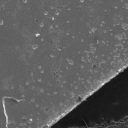corrosion: (65, 58, 75, 67), (73, 94, 83, 103), (84, 48, 94, 57), (114, 54, 123, 64), (121, 21, 128, 31), (89, 26, 97, 34), (31, 43, 38, 50), (116, 33, 123, 40), (91, 63, 97, 70), (24, 80, 30, 86), (86, 78, 92, 84), (34, 32, 40, 37), (43, 10, 48, 16), (39, 22, 44, 28), (28, 117, 33, 123), (39, 88, 45, 93), (54, 11, 59, 16), (49, 53, 54, 58), (65, 31, 70, 36), (38, 78, 42, 84), (74, 84, 78, 90), (37, 64, 41, 69), (55, 23, 58, 28)
